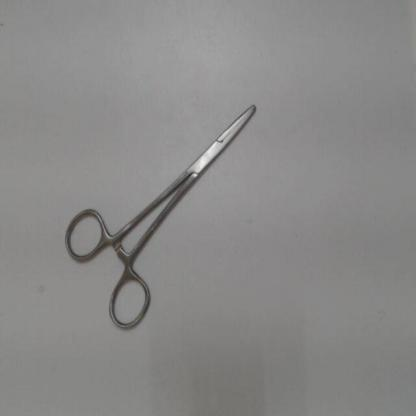Mayo Needle Holder: (61, 83, 274, 339)
